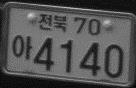0: (103, 43, 124, 78), (86, 17, 101, 36)
1: (59, 37, 74, 73)
4: (32, 36, 55, 72), (78, 41, 100, 76)
7: (71, 15, 87, 35)
아: (10, 32, 32, 61)
전북_H: (37, 12, 68, 33)
